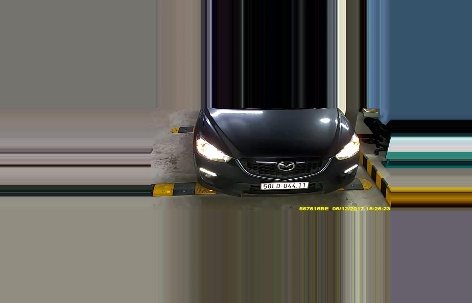plate: (260, 179, 311, 195)
